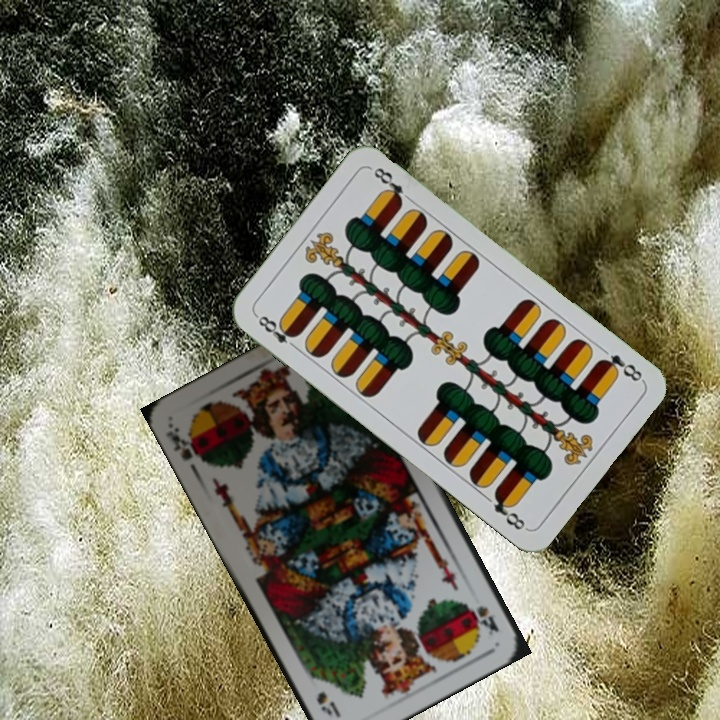E8: (252, 311, 301, 353), (594, 350, 646, 385)
SK: (162, 420, 207, 465), (467, 602, 502, 638)
